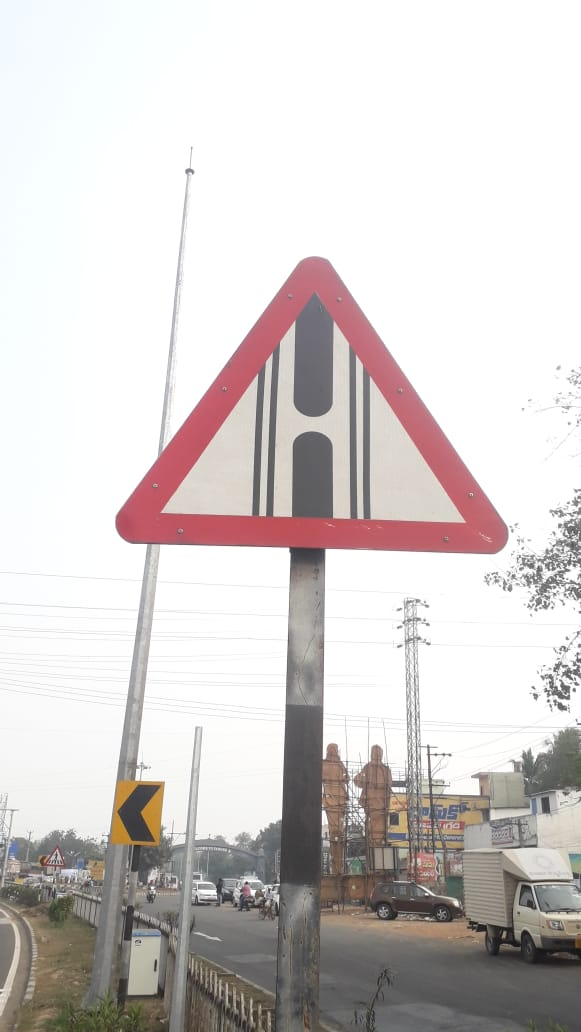highway go straight: (102, 247, 551, 597)
